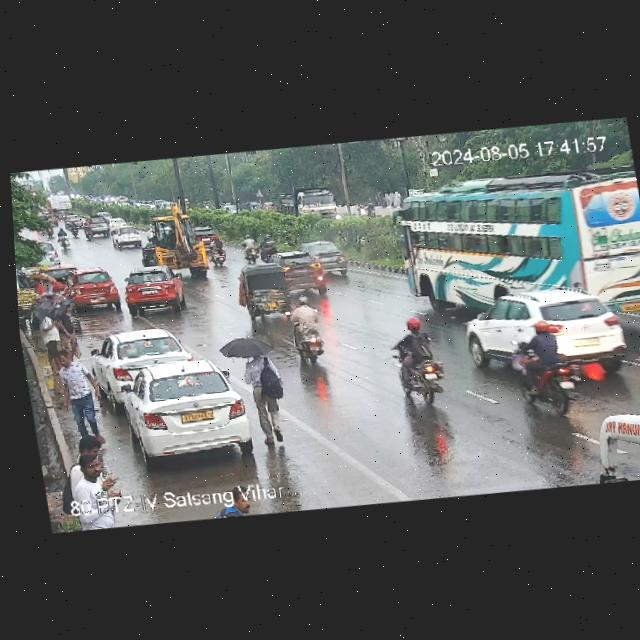bus: (388, 156, 640, 325), (135, 208, 220, 279)
car: (98, 352, 260, 466), (459, 283, 640, 377), (89, 324, 194, 390), (236, 260, 300, 315), (119, 264, 190, 313), (66, 270, 119, 309), (300, 238, 354, 276), (109, 225, 147, 248), (84, 212, 112, 236), (193, 224, 224, 243), (105, 215, 129, 232), (63, 212, 83, 229)
motorcycle: (514, 316, 583, 396), (387, 312, 449, 401), (281, 293, 327, 362), (239, 234, 288, 266), (207, 236, 230, 267), (51, 227, 73, 250), (68, 220, 83, 239)
person: (50, 338, 114, 453), (236, 331, 295, 453), (62, 454, 126, 513), (68, 428, 112, 503), (41, 322, 70, 369), (34, 290, 60, 332), (582, 467, 640, 485)
truck: (273, 183, 341, 224), (44, 190, 74, 215)
